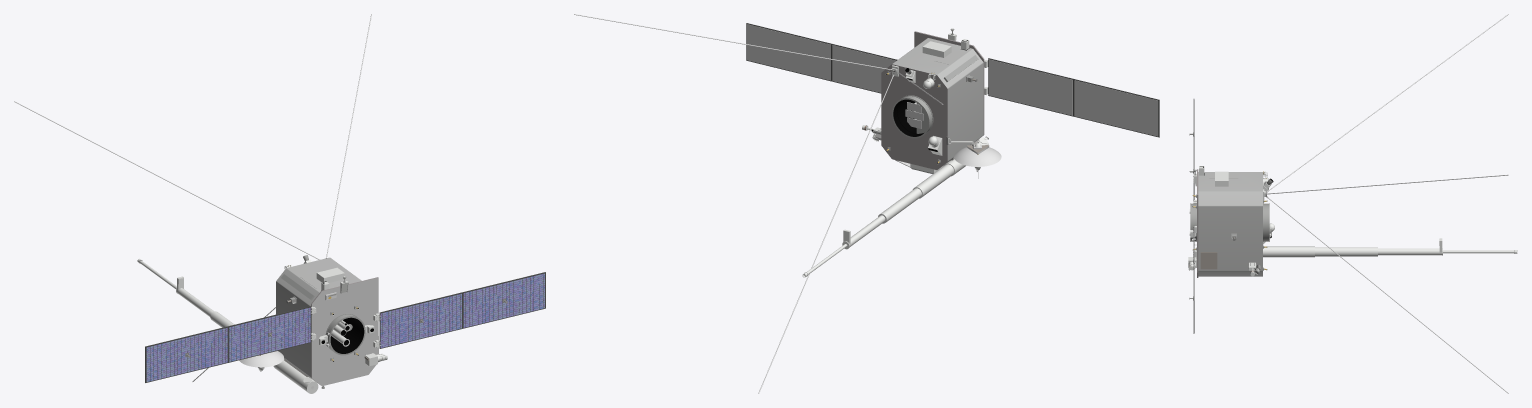
Rendered from stereo_satellite.glb.
3 renders of one model, left to right at view 1: azimuth 30°, elevation 25°; view 2: azimuth 150°, elevation 25°; view 3: azimuth 270°, elevation 25°, orthographic. The views are drawn at different scales.
Visible parts, largest first — view 1: Stereo-2016-comp.lwo_Group_Stereo-SolarPanelFaces_Geometry_0, Stereo-2016-comp.lwo_Group_Stereo-telescope-backs_Geometry_0, Stereo-2016-comp.lwo_Group_Stereo-MainBody_Geometry_0, Stereo-2016-comp.lwo_Group_Stereo-SolarFaces4_Geometry_0, Stereo-2016-comp.lwo_Group_Stereo-SolarFaces3_Geometry_0, Stereo-2016-comp.lwo_Group_Stereo-SolarFaces6_Geometry_0, Stereo-2016-comp.lwo_Group_Stereo-SolarFaces2_Geometry_0, Stereo-2016-comp.lwo_Group_Stereo-SolarFaces5_Geometry_0, Stereo-2016-comp.lwo_Group_Stereo-SolarFaces7_Geometry_0, Stereo-2016-comp.lwo_Group_Stereo-SolarFaces8_Geometry_0, Stereo-2016-comp.lwo_Group_Stereo-SolarFaces1_Geometry_0, Stereo-2016-comp.lwo_Group_Stereo-MainTube-sides_Geometry_0 (+5 smaller); view 2: Stereo-2016-comp.lwo_Group_Stereo-telescope-backs_Geometry_0, Stereo-2016-comp.lwo_Group_Stereo-MainBody_Geometry_0, Stereo-2016-comp.lwo_Group_Stereo-MainBody-Bottom_Geometry_0, Stereo-2016-comp.lwo_Group_Stereo-MainTube-sides_Geometry_0, Stereo-2016-comp.lwo_Group_Stereo-SolarPanelFaces_Geometry_0, Stereo-2016-comp.lwo_Group_Stereo-Detail3-white-fl_Geometry_, Stereo-2016-comp.lwo_Group_Stereo-antenna_Geometry_0, Stereo-2016-comp.lwo_Group_Main Dish_Geometry_0, Stereo-2016-comp.lwo_Group_Stereo-Detail5-black_Geometry_0, Stereo-2016-comp.lwo_Group_Stereo-Detail4-silver_Geometry_0, Stereo-2016-comp.lwo_Group_Stereo-Detail3-white_Geometry_0; view 3: Stereo-2016-comp.lwo_Group_Stereo-MainBody_Geometry_0, Stereo-2016-comp.lwo_Group_Stereo-MainTube-sides_Geometry_0, Stereo-2016-comp.lwo_Group_Stereo-antenna_Geometry_0, Stereo-2016-comp.lwo_Group_Stereo-Detail3-white-fl_Geometry_, Stereo-2016-comp.lwo_Group_Stereo-Detail4-silver_Geometry_0, Stereo-2016-comp.lwo_Group_Stereo-SolarPanelFaces_Geometry_0, Stereo-2016-comp.lwo_Group_Stereo-Detail1-bronze_Geometry_0.
Boxes of the visible parts, x1,y1,x2,y2 form: Stereo-2016-comp.lwo_Group_Stereo-SolarPanelFaces_Geometry_0: (145,272,545,382); Stereo-2016-comp.lwo_Group_Stereo-telescope-backs_Geometry_0: (311,277,378,386); Stereo-2016-comp.lwo_Group_Stereo-MainBody_Geometry_0: (276,257,361,383); Stereo-2016-comp.lwo_Group_Stereo-SolarFaces4_Geometry_0: (146,273,544,380); Stereo-2016-comp.lwo_Group_Stereo-SolarFaces3_Geometry_0: (150,276,541,379); Stereo-2016-comp.lwo_Group_Stereo-SolarFaces6_Geometry_0: (146,276,544,379); Stereo-2016-comp.lwo_Group_Stereo-SolarFaces2_Geometry_0: (146,276,544,380); Stereo-2016-comp.lwo_Group_Stereo-SolarFaces5_Geometry_0: (146,275,544,381); Stereo-2016-comp.lwo_Group_Stereo-SolarFaces7_Geometry_0: (148,278,542,375); Stereo-2016-comp.lwo_Group_Stereo-SolarFaces8_Geometry_0: (146,275,544,381); Stereo-2016-comp.lwo_Group_Stereo-SolarFaces1_Geometry_0: (148,274,542,379); Stereo-2016-comp.lwo_Group_Stereo-MainTube-sides_Geometry_0: (137,258,315,392); Stereo-2016-comp.lwo_Group_Stereo-telescope-backs_Geometry_0: (747,24,1158,136); Stereo-2016-comp.lwo_Group_Stereo-MainBody_Geometry_0: (892,38,983,168); Stereo-2016-comp.lwo_Group_Stereo-MainBody-Bottom_Geometry_0: (881,64,947,169); Stereo-2016-comp.lwo_Group_Stereo-MainTube-sides_Geometry_0: (803,139,989,277); Stereo-2016-comp.lwo_Group_Stereo-SolarPanelFaces_Geometry_0: (746,23,1159,137); Stereo-2016-comp.lwo_Group_Stereo-Detail3-white-fl_Geometry_: (843,33,987,244); Stereo-2016-comp.lwo_Group_Stereo-antenna_Geometry_0: (574,14,942,393); Stereo-2016-comp.lwo_Group_Main Dish_Geometry_0: (954,144,1001,178); Stereo-2016-comp.lwo_Group_Stereo-Detail5-black_Geometry_0: (865,40,969,163); Stereo-2016-comp.lwo_Group_Stereo-Detail4-silver_Geometry_0: (864,28,988,167); Stereo-2016-comp.lwo_Group_Stereo-Detail3-white_Geometry_0: (862,28,988,170); Stereo-2016-comp.lwo_Group_Stereo-MainBody_Geometry_0: (1198,172,1262,276); Stereo-2016-comp.lwo_Group_Stereo-MainTube-sides_Geometry_0: (1263,246,1517,257); Stereo-2016-comp.lwo_Group_Stereo-antenna_Geometry_0: (1267,14,1508,393); Stereo-2016-comp.lwo_Group_Stereo-Detail3-white-fl_Geometry_: (1188,166,1442,276); Stereo-2016-comp.lwo_Group_Stereo-Detail4-silver_Geometry_0: (1189,133,1273,299); Stereo-2016-comp.lwo_Group_Stereo-SolarPanelFaces_Geometry_0: (1193,99,1194,333); Stereo-2016-comp.lwo_Group_Stereo-Detail1-bronze_Geometry_0: (1189,237,1234,269).
Bounding box in the file's own units: 3115400 × 2413729 × 2404500.
